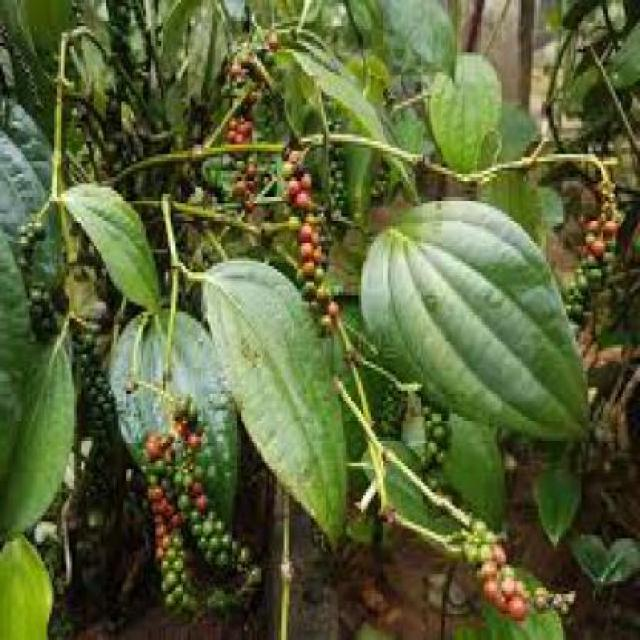RIPE: (148, 414, 203, 545), (294, 139, 325, 310), (233, 89, 262, 214)
